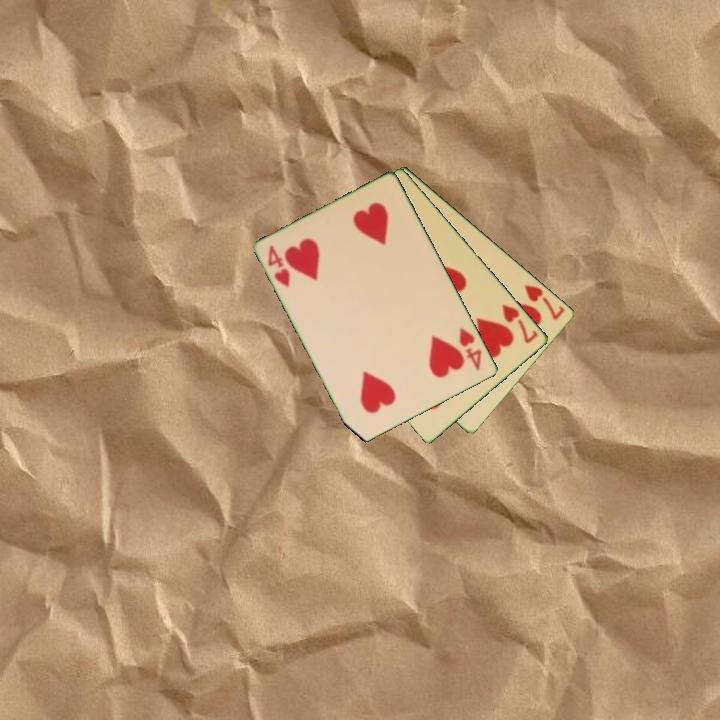4h: (456, 324, 485, 374), (265, 242, 293, 290)
7h: (521, 281, 568, 323), (499, 300, 541, 346)
